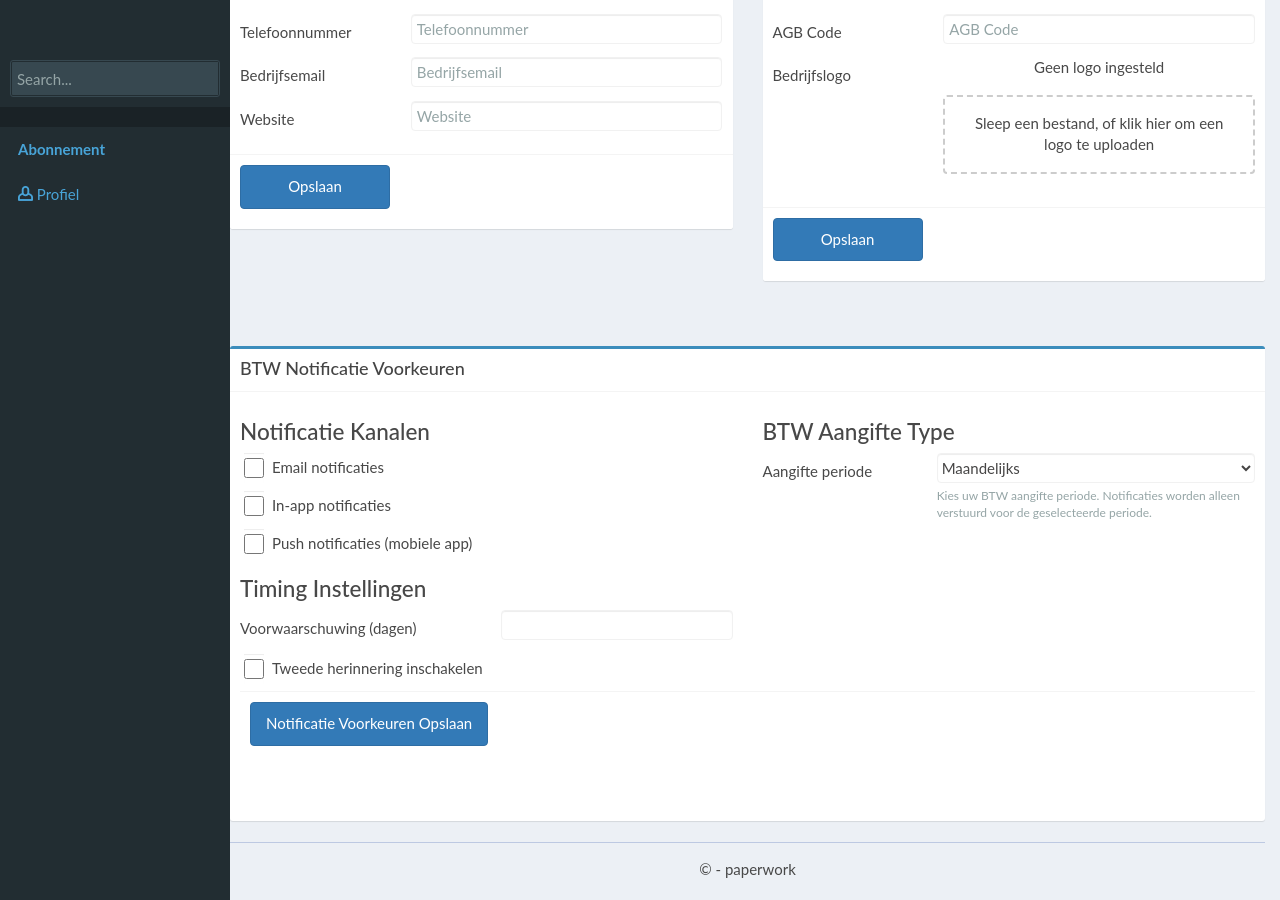
Test: Settings form › VAT notification preferences form › does not submit when the required advanceWarningDays is empty
(page scrolled)
Click the button "Notificatie Voorkeuren Opslaan": (369, 724) [250,702,488,746]
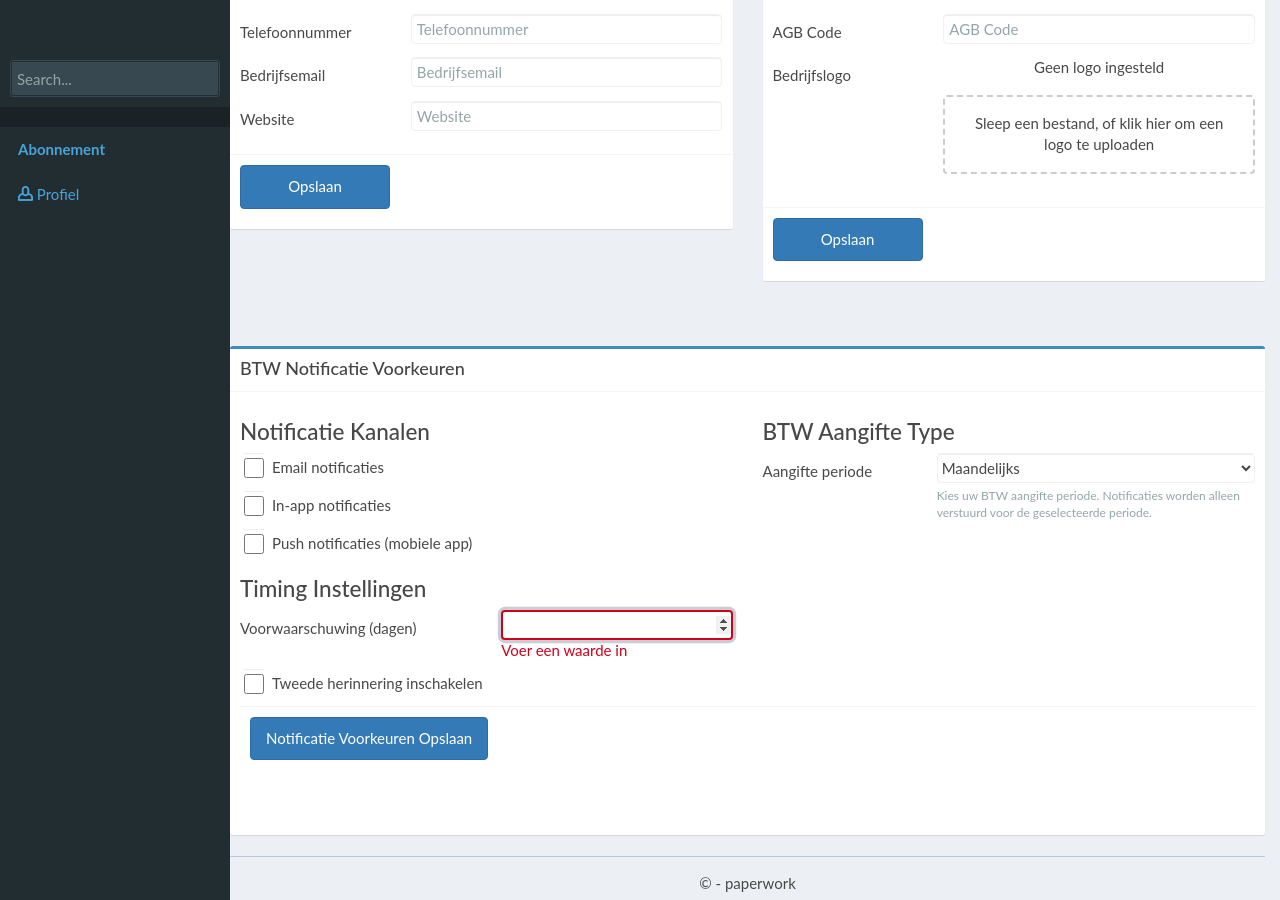
Result: the text "Voer een waarde in" is shown at [501,641,627,659]
